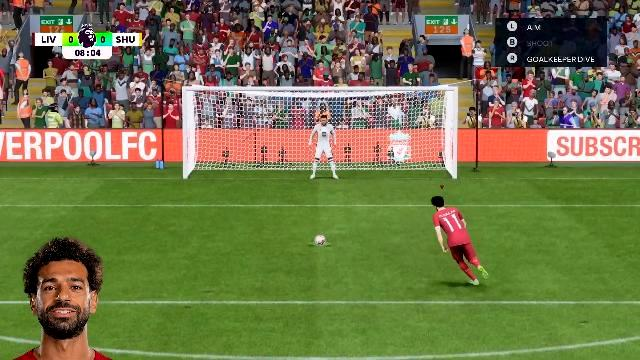bottom-left: (188, 135, 282, 179)
bottom-right: (363, 135, 452, 179)
center-down: (284, 135, 362, 179)
center-up: (284, 90, 364, 134)
circle: (309, 238, 331, 243)
football: (314, 233, 326, 243)
goalkeeper: (308, 115, 338, 180)
player: (428, 195, 489, 296)
top-left: (188, 92, 284, 134)
top-right: (364, 92, 454, 134)
